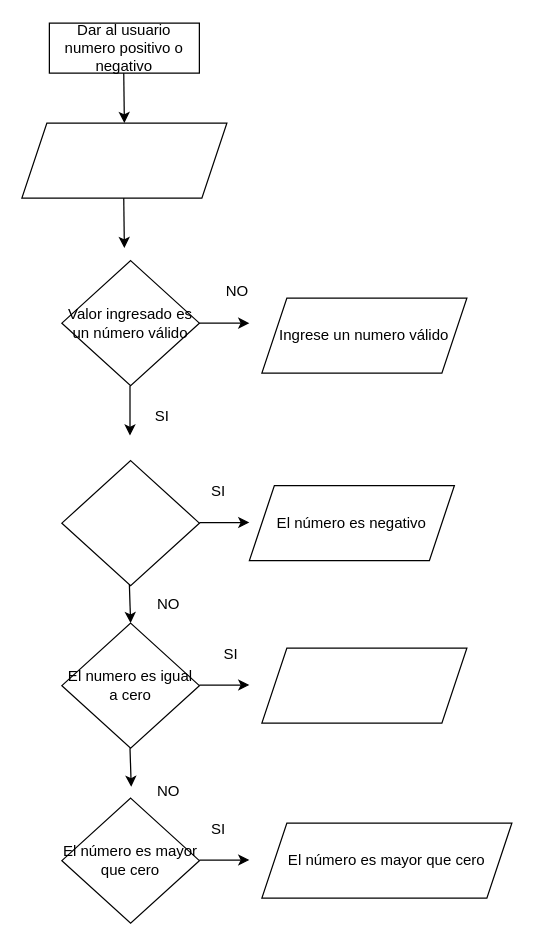
The diagram is 534 pixels wide and 945 high, and some of its shapes have lost their labels. Here are the shapes that lost their labels. From the top down, the centre of each, then its label:
At pixel 124 160: "Pedir al usuario que ingrese un numero".
At pixel 130 522: "El número es menor que 0".
At pixel 364 685: "El número es igual a cero".
